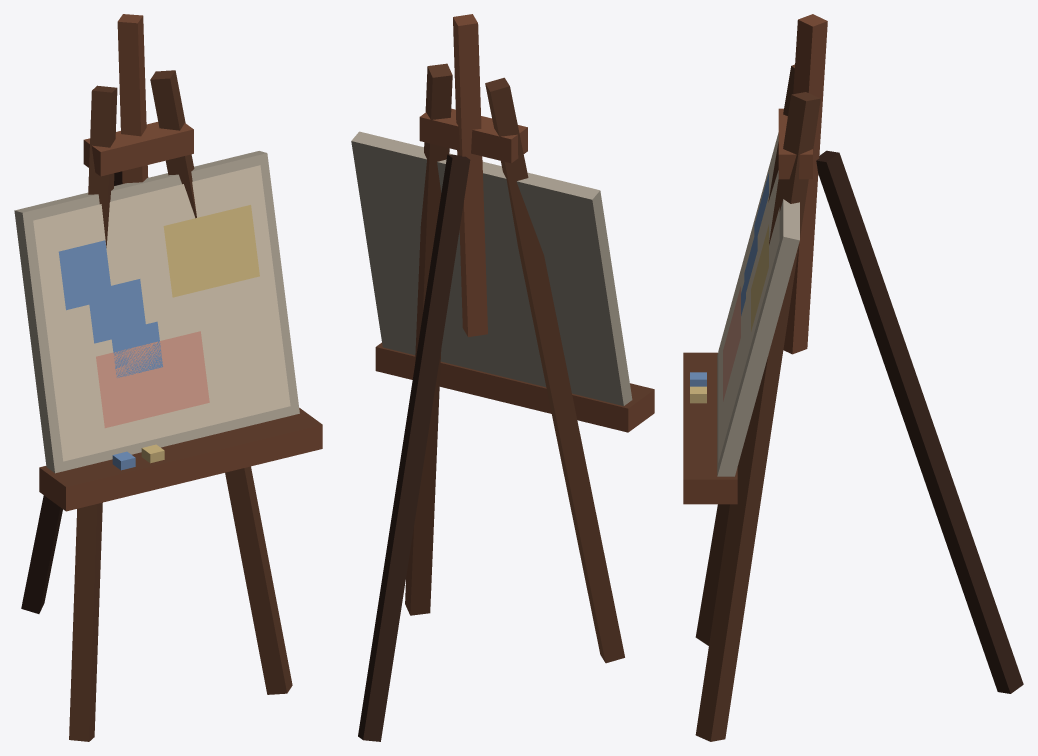
Rendered from art_easel_basic.fbx.
The picture shows the model from 3 angles, left to right: view 1: azimuth 30°, elevation 25°; view 2: azimuth 150°, elevation 25°; view 3: azimuth 270°, elevation 25°; orthographic projection. The views are drawn at different scales.
Parts seen in each view (by area): view 1: art_easel_basic; view 2: art_easel_basic; view 3: art_easel_basic.
Part boxes in pixels (bbox=[...]): art_easel_basic: bbox=[14, 14, 322, 741]; art_easel_basic: bbox=[351, 14, 654, 741]; art_easel_basic: bbox=[683, 14, 1023, 741].
Size of the model in its own units: 0.44 by 1.09 by 0.4991.
